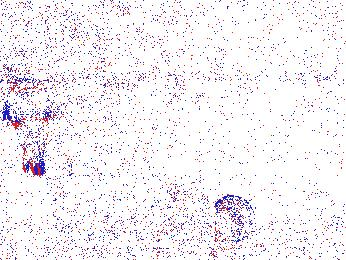flame jellyfish: (5, 80, 58, 175), (51, 201, 112, 259), (209, 195, 256, 246)
